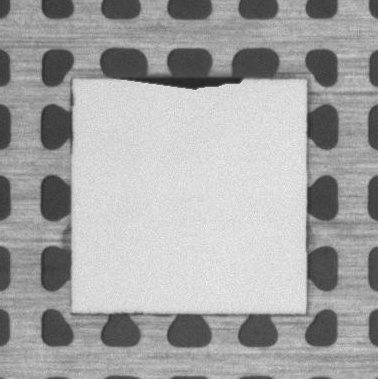DIE_BROKEN: (118, 74, 244, 94)
